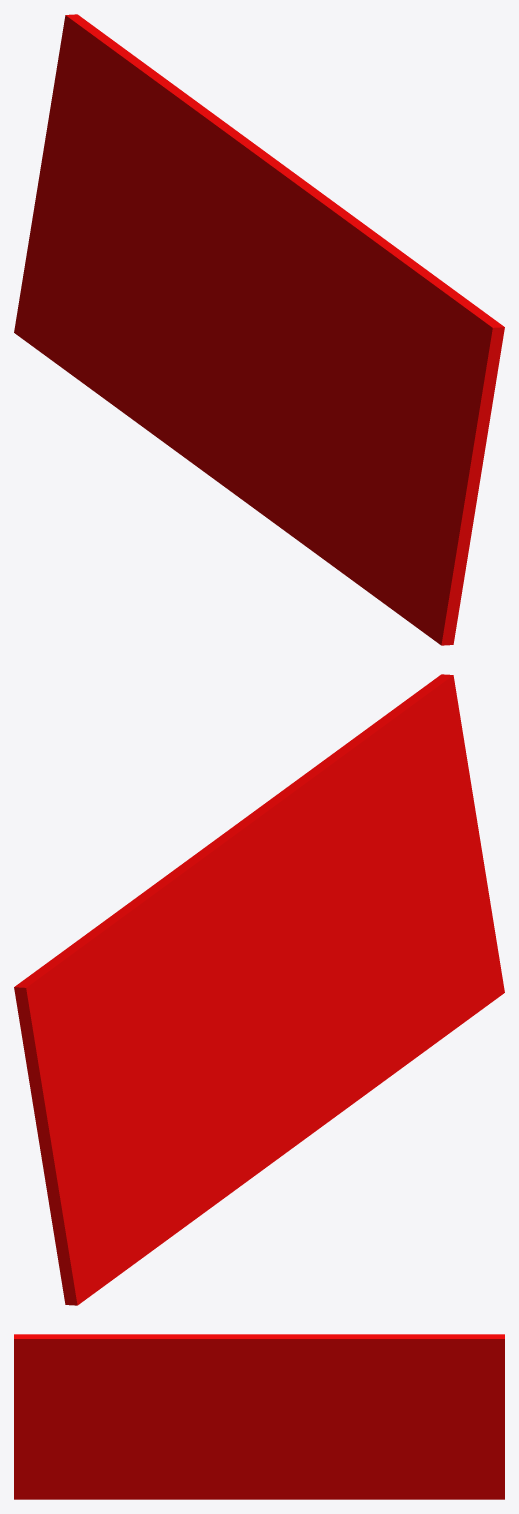
The model's file is stage_01_01_wall_01.FBX.
The picture shows the model from 3 angles, top to bottom: view 1: azimuth 30°, elevation 25°; view 2: azimuth 150°, elevation 25°; view 3: azimuth 270°, elevation 25°; orthographic projection. The views are drawn at different scales.
Parts seen in each view (by area): view 1: stage_01_01_wall_01; view 2: stage_01_01_wall_01; view 3: stage_01_01_wall_01.
Part boxes in pixels (x1,y1,x2,y2): stage_01_01_wall_01: (14, 14, 504, 645); stage_01_01_wall_01: (14, 674, 504, 1305); stage_01_01_wall_01: (14, 1334, 504, 1499).
Bounding box in the file's own units: 258 × 1190 × 3000.
